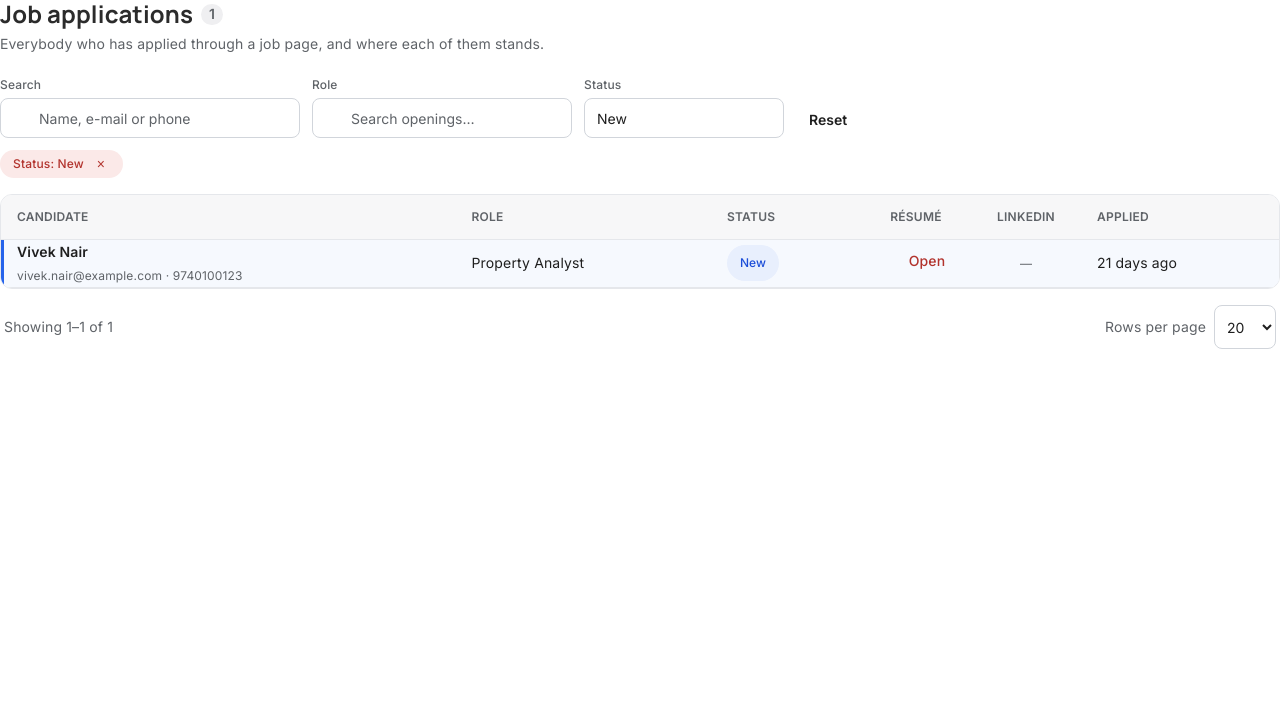
Test case: QA-61 › keeps the panel open on an application a status change takes out of the list
Click the text "Vivek Nair" at [52, 252], box left=17, top=244, right=88, bottom=261
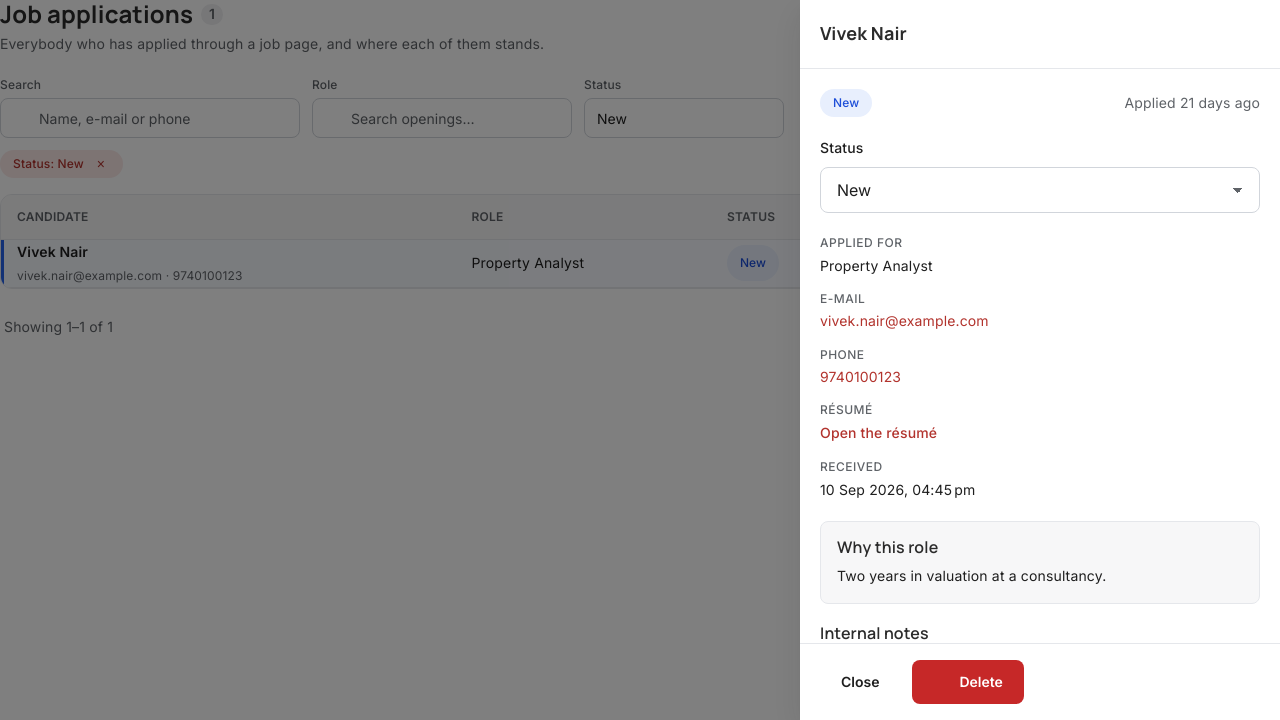
Select "Interview" in the dropdown labelled "Status" at [1040, 190], box left=820, top=167, right=1260, bottom=213
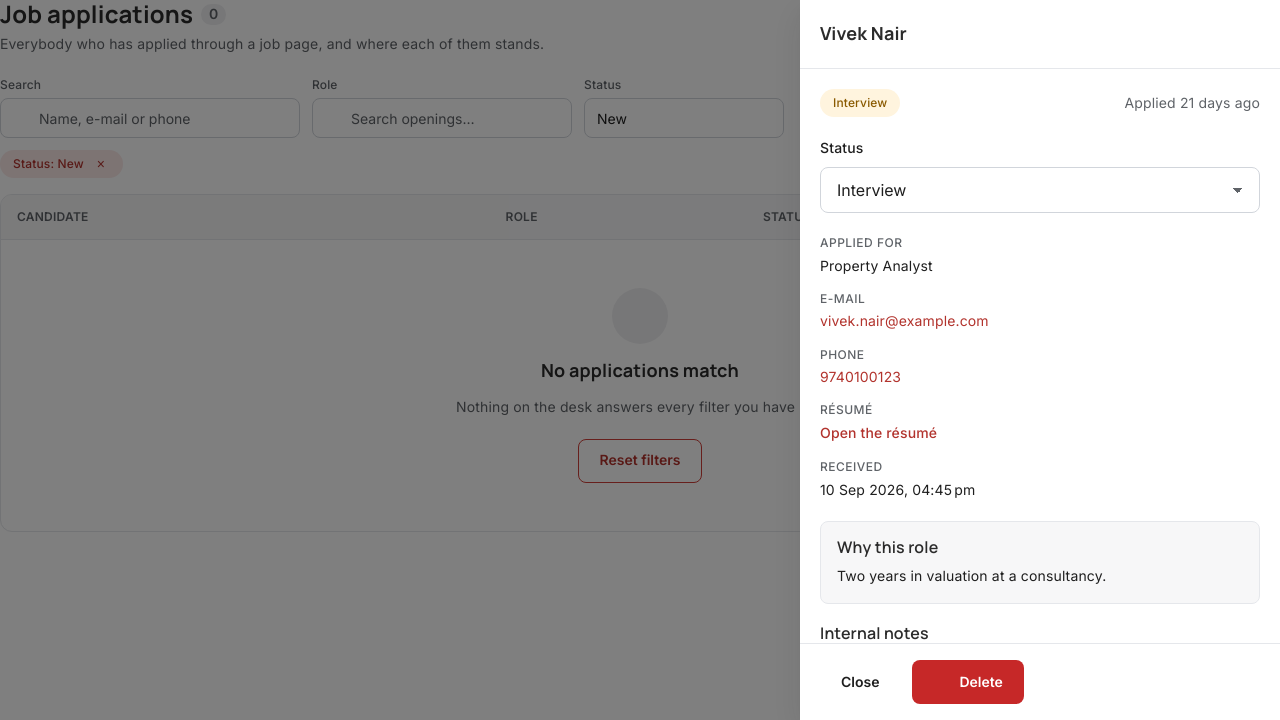
Now the dialog "Vivek Nair" is shown, box left=800, top=0, right=1279, bottom=719
Now the text "No applications match" is shown, box left=541, top=356, right=739, bottom=385
